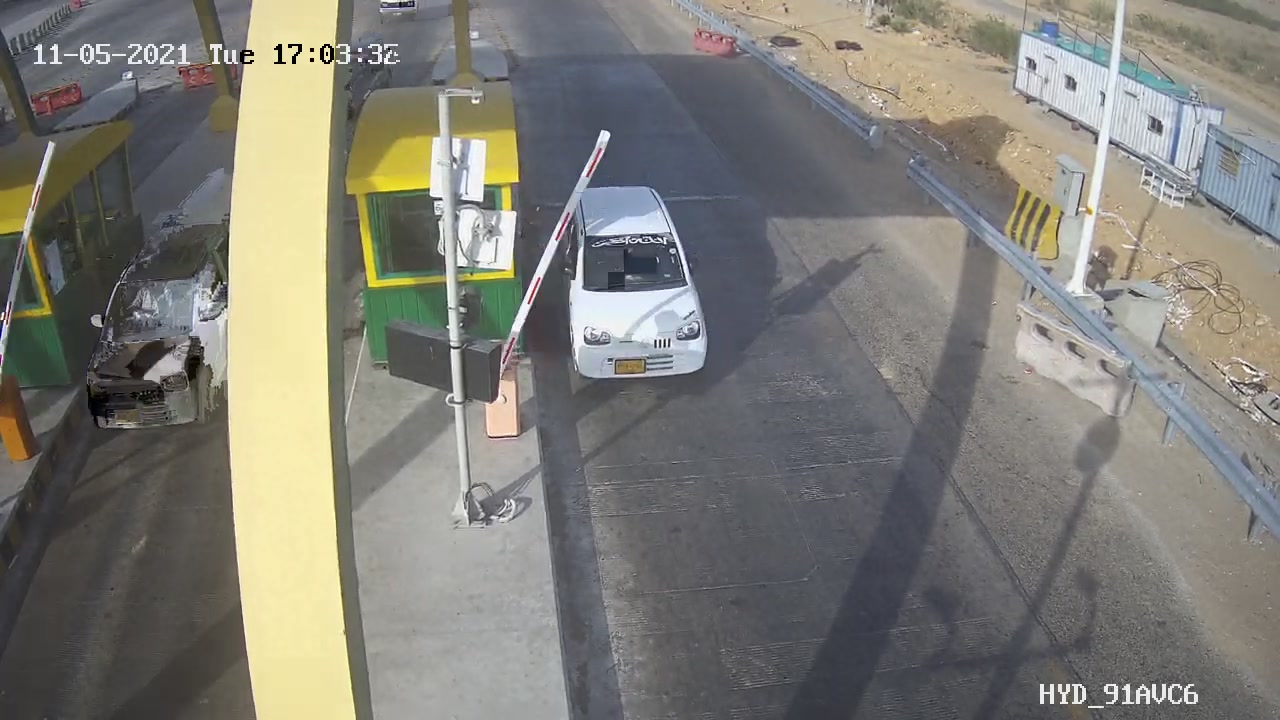F1: (548, 174, 724, 405)
